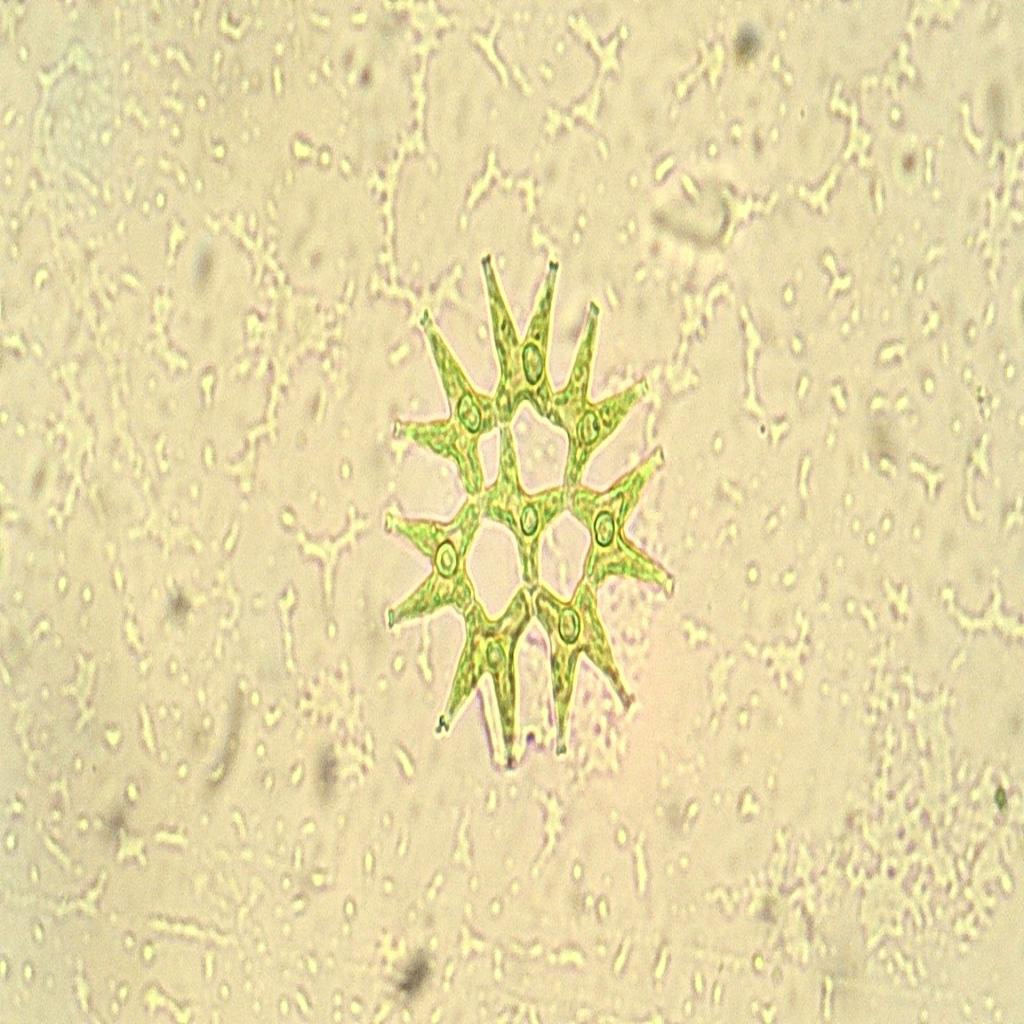Pediastrum_1T: (379, 217, 683, 807)
